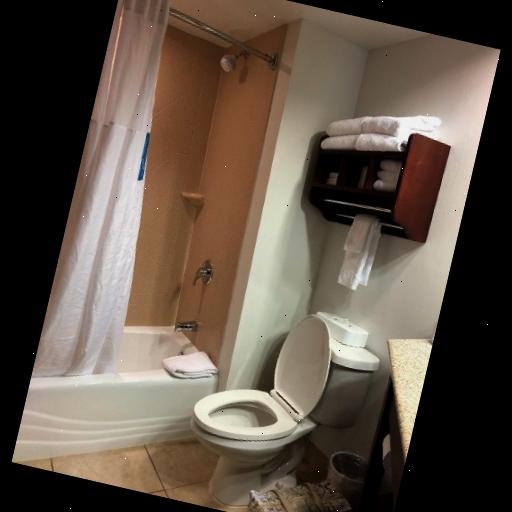clean_bathtub: (14, 321, 221, 462)
clean_floor: (10, 441, 219, 504)
clean_toilet: (173, 291, 395, 512)
folded_towel: (332, 204, 390, 292), (320, 114, 440, 154), (162, 344, 224, 388), (371, 154, 413, 200)
